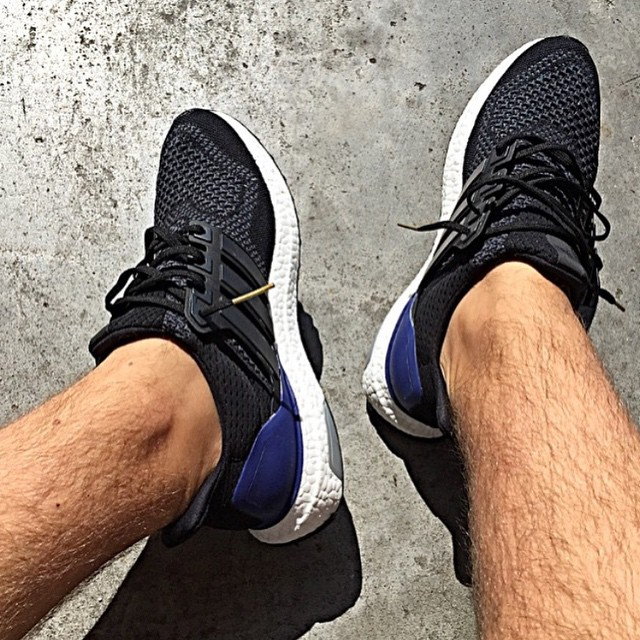sneaker: (82, 92, 364, 589), (353, 21, 640, 463)
